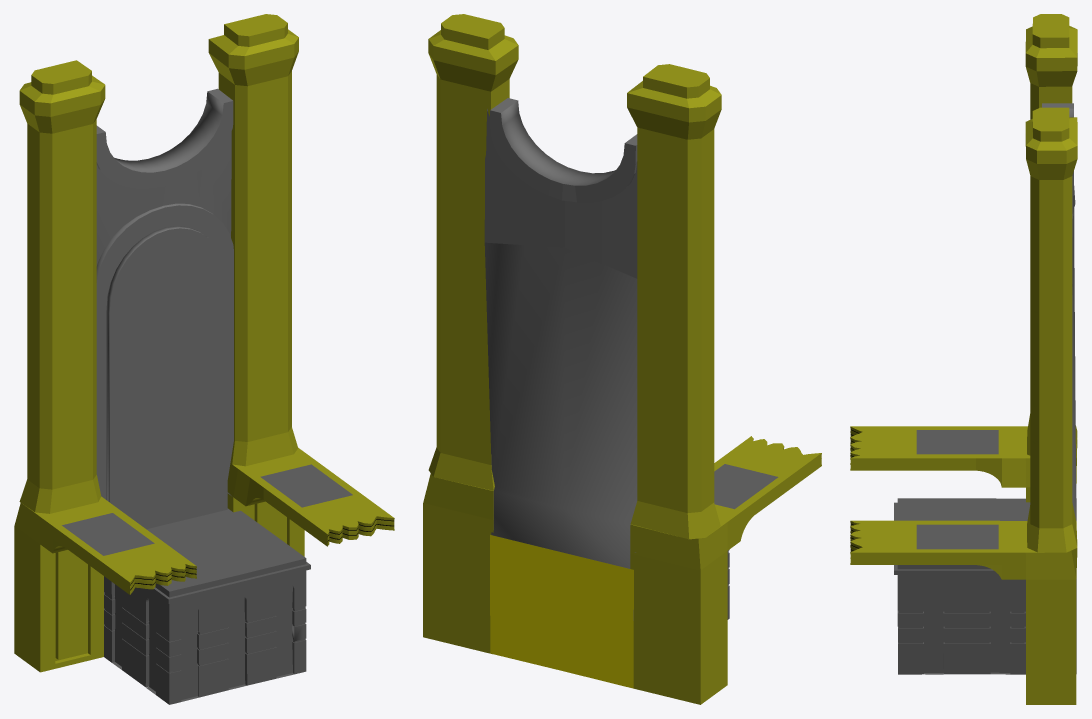
File: throne.fbx
3 renders of one model, left to right at view 1: azimuth 30°, elevation 25°; view 2: azimuth 150°, elevation 25°; view 3: azimuth 270°, elevation 25°, orthographic. The views are drawn at different scales.
Parts seen in each view (by area): view 1: Plane.001_0, Cube.001_1, Cube.010_2; view 2: Plane.001_0, Cube.001_1, Cube.010_2; view 3: Plane.001_0, Cube.010_2, Cube.001_1.
Part boxes in pixels (x1,y1,x2,y2): Plane.001_0: (14,14,394,672); Cube.001_1: (96,88,233,529); Cube.010_2: (104,508,310,704); Plane.001_0: (423,14,821,704); Cube.001_1: (484,98,637,568); Cube.010_2: (490,535,729,688); Plane.001_0: (850,14,1077,704); Cube.010_2: (894,498,1076,674); Cube.001_1: (1042,103,1076,520).
Bounding box in the file's own units: 10463 × 21998 × 7956.
